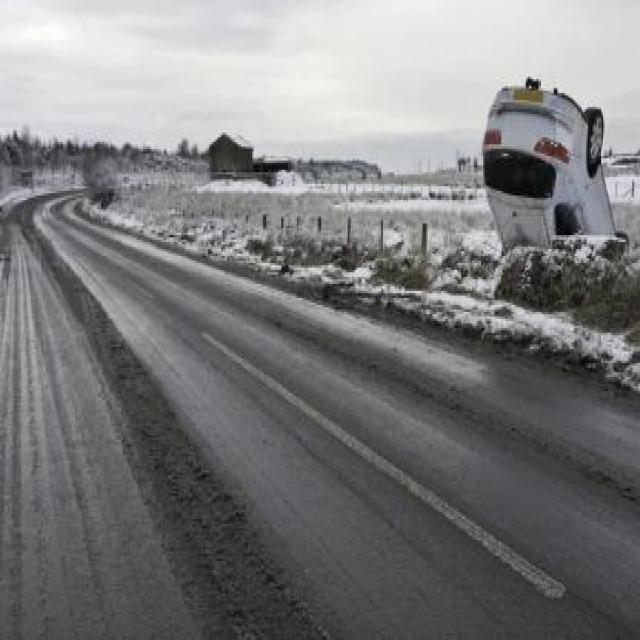accident: (460, 53, 626, 298)
